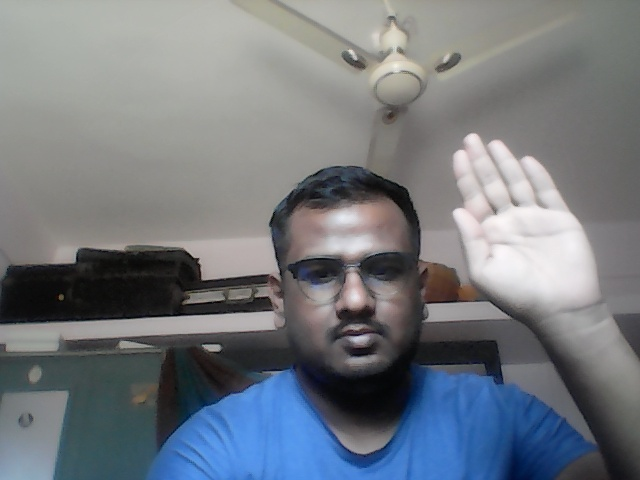Hello: (445, 129, 609, 324)
